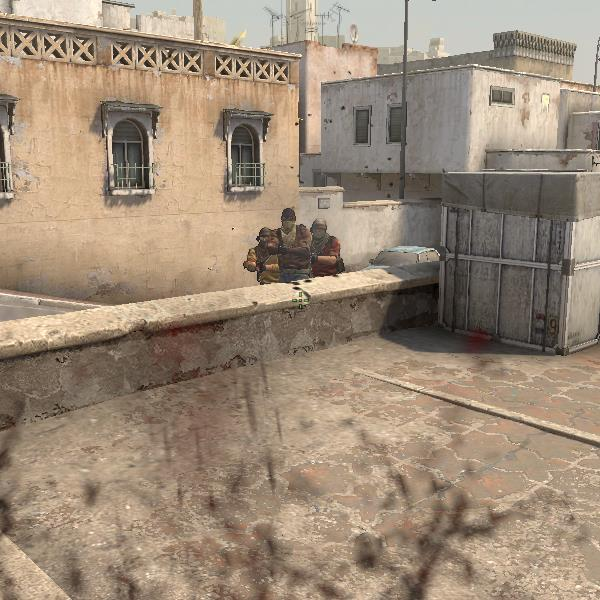t_body: (298, 212, 348, 277)
t_head: (305, 213, 333, 241)
